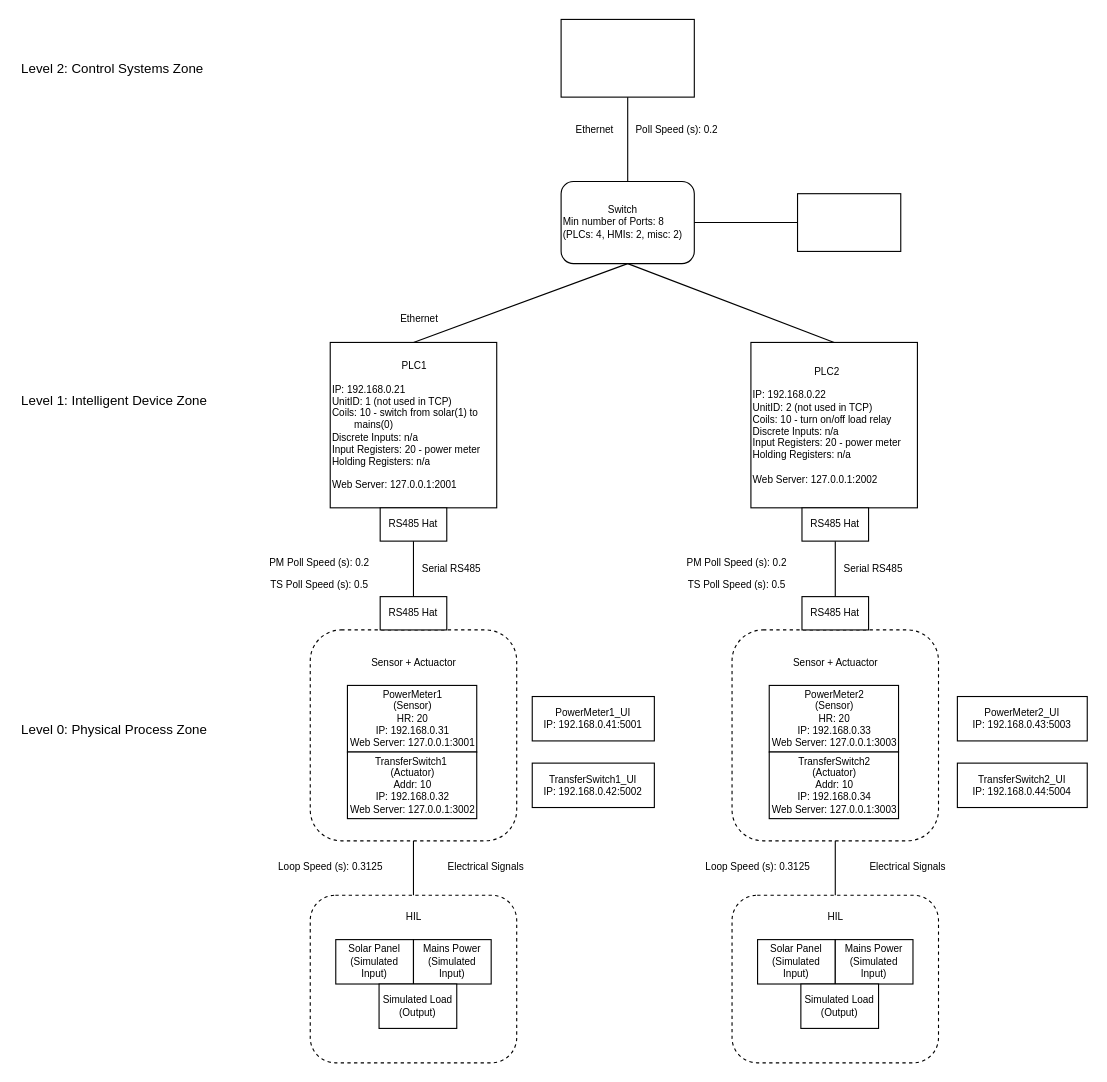
This 1107x1082 diagram has some shape labels left out. The centre of each missing label's shape, as x and y in pixels:
"Attacker IP: 192.168.0.31" goes at pixel 848 222.
"HMI IP: 192.168.0.11 Web Server: 127.0.0.1:1001" goes at pixel 627 57.
